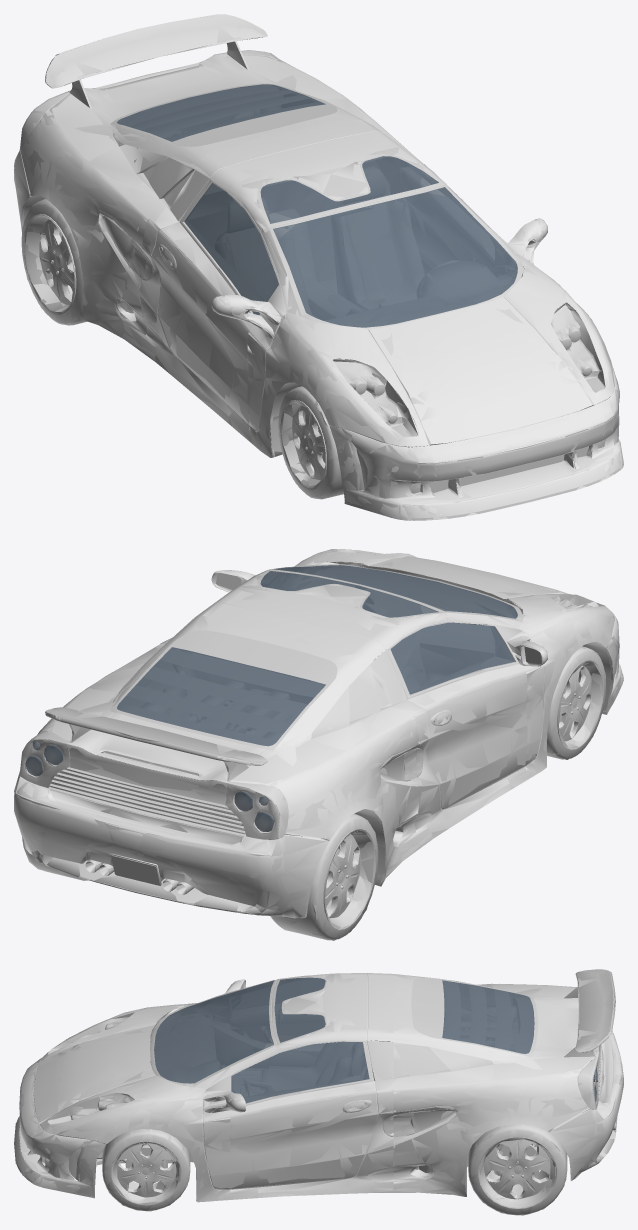
Rendered from sports.fbx.
3 views of the same model, one above another, from view 1: azimuth 30°, elevation 25°; view 2: azimuth 150°, elevation 25°; view 3: azimuth 270°, elevation 25° (orthographic). The views are drawn at different scales.
Parts seen in each view (by area): view 1: Body, LOD1_Body, LOD2_Body, Door_FR, LOD1_Door_FR, LOD2_Door_FR, Wheel_RR, Wheel_FR, LOD1_Wheel_RR, LOD1_Wheel_FR, Door_FL, LOD1_Door_FL; view 2: Body, LOD1_Body, LOD2_Body, Door_FR, LOD2_Door_FR, LOD1_Door_FR, Wheel_RR, Wheel_FR, LOD1_Wheel_RR, LOD1_Wheel_FR, LOD2_Wheel_RR; view 3: Body, LOD1_Body, LOD2_Body, Door_FL, LOD2_Door_FL, LOD1_Door_FL, Wheel_RL, Wheel_FL, LOD1_Wheel_RL, LOD1_Wheel_FL, LOD2_Wheel_FL, LOD2_Wheel_RL (+1 smaller).
Boxes of the visible parts, x1,y1,x2,y2 form: Body: [14, 14, 623, 520]; LOD1_Body: [14, 14, 623, 520]; LOD2_Body: [14, 14, 623, 520]; Door_FR: [139, 183, 309, 423]; LOD1_Door_FR: [141, 183, 309, 425]; LOD2_Door_FR: [139, 185, 284, 424]; Wheel_RR: [21, 199, 87, 325]; Wheel_FR: [278, 386, 343, 499]; LOD1_Wheel_RR: [22, 201, 84, 325]; LOD1_Wheel_FR: [278, 388, 343, 498]; Door_FL: [420, 171, 547, 239]; LOD1_Door_FL: [395, 164, 547, 239]; Body: [14, 549, 623, 918]; LOD1_Body: [14, 549, 623, 918]; LOD2_Body: [14, 549, 623, 918]; Door_FR: [391, 604, 547, 844]; LOD2_Door_FR: [394, 613, 527, 827]; LOD1_Door_FR: [390, 605, 547, 845]; Wheel_RR: [271, 814, 378, 940]; Wheel_FR: [547, 646, 605, 759]; LOD1_Wheel_RR: [270, 814, 378, 940]; LOD1_Wheel_FR: [547, 647, 605, 759]; LOD2_Wheel_RR: [326, 820, 378, 915]; Body: [14, 969, 623, 1202]; LOD1_Body: [14, 970, 623, 1201]; LOD2_Body: [14, 969, 623, 1200]; Door_FL: [216, 1034, 393, 1193]; LOD2_Door_FL: [230, 1043, 393, 1192]; LOD1_Door_FL: [216, 1034, 393, 1192]; Wheel_RL: [468, 1124, 567, 1215]; Wheel_FL: [102, 1129, 190, 1211]; LOD1_Wheel_RL: [468, 1124, 565, 1215]; LOD1_Wheel_FL: [102, 1129, 190, 1211]; LOD2_Wheel_FL: [116, 1143, 180, 1198]; LOD2_Wheel_RL: [483, 1133, 566, 1202].
Size of the model in its own units: 2.15 by 1.31 by 4.45.
